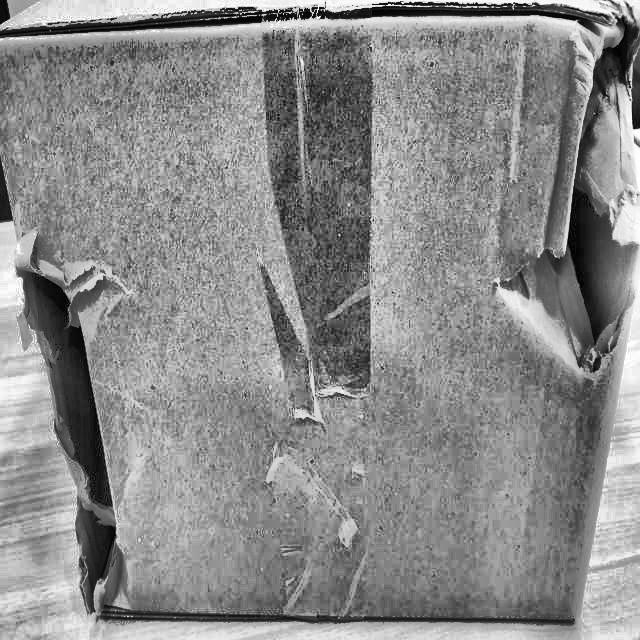box: (0, 0, 639, 625)
hole: (490, 5, 640, 371), (21, 253, 123, 616)
